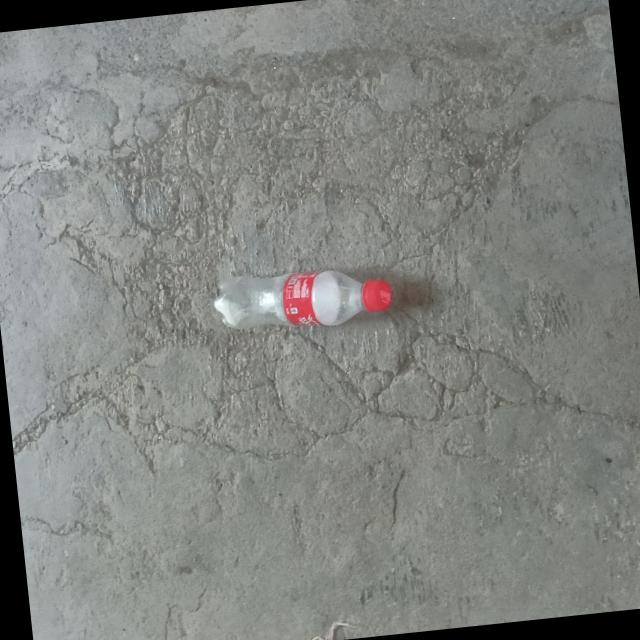Bottle: (213, 270, 390, 328)
